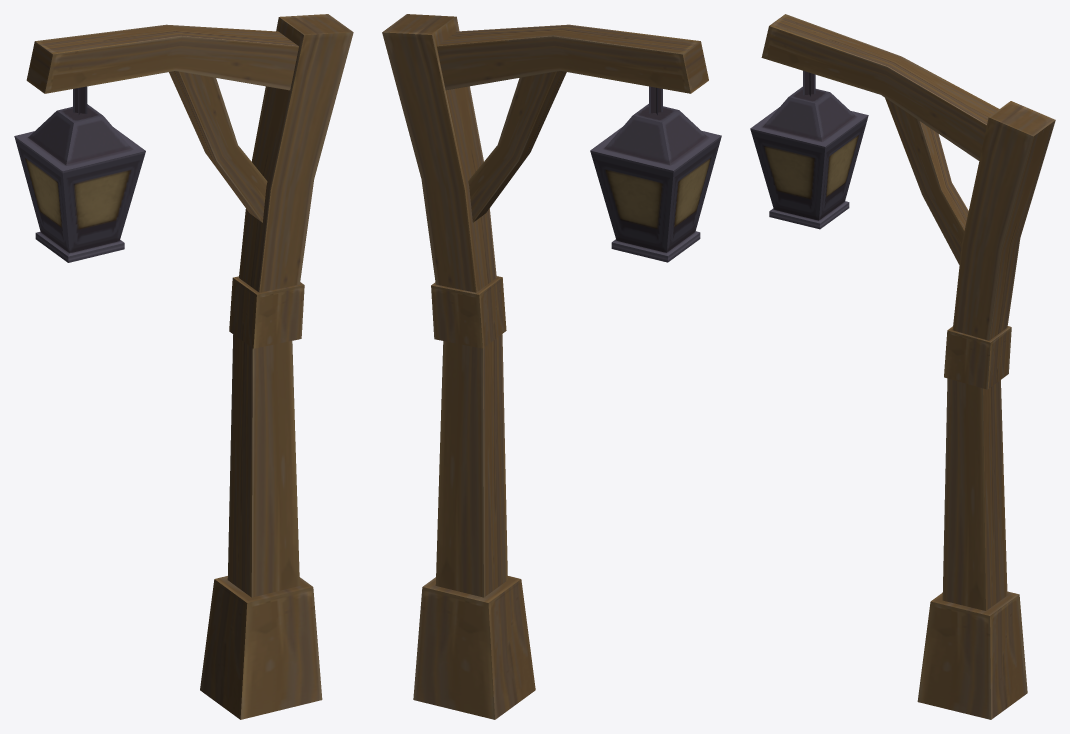
Rendered from SM_ZSJ_deng002.FBX.
3 renders of one model, left to right at view 1: azimuth 30°, elevation 25°; view 2: azimuth 150°, elevation 25°; view 3: azimuth 330°, elevation 25°, orthographic. The views are drawn at different scales.
Visible parts, largest first — view 1: SM_ZSJ_deng002; view 2: SM_ZSJ_deng002; view 3: SM_ZSJ_deng002.
Part boxes in pixels (box(x1,y1,x2,y2)): SM_ZSJ_deng002: box(14, 14, 353, 719); SM_ZSJ_deng002: box(382, 14, 721, 719); SM_ZSJ_deng002: box(750, 14, 1055, 719).
Bounding box in the file's own units: 181 × 397 × 49.63.
